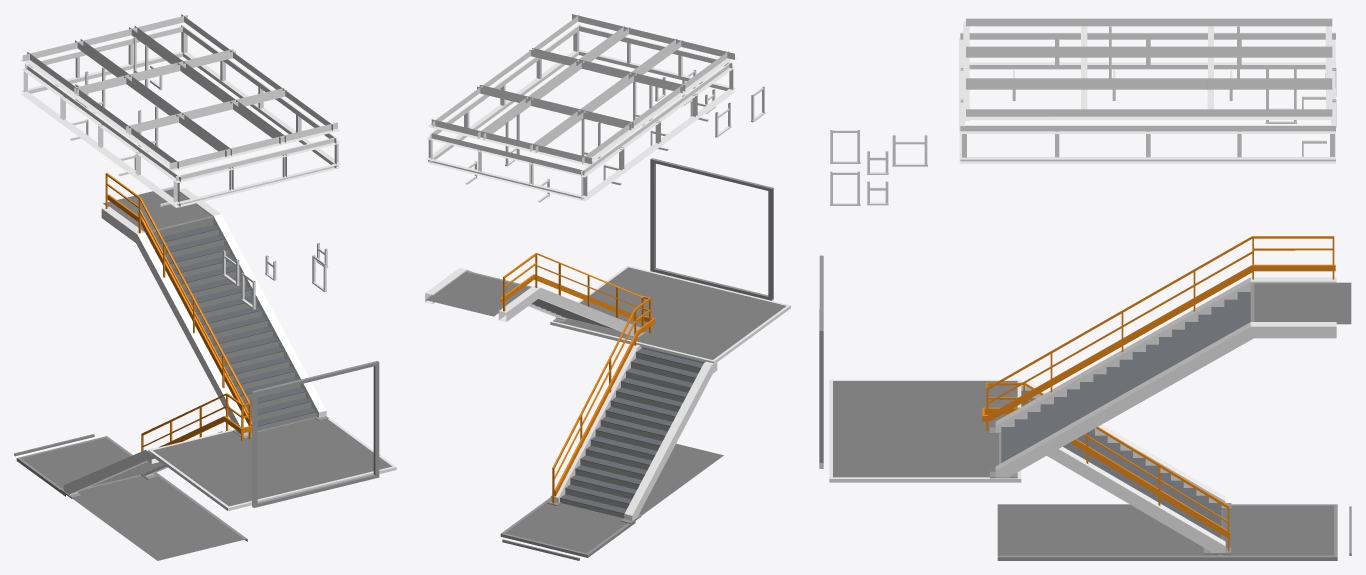
The model's file is SM_H_Building_Tide_WaterControl_05d_ATLAS.fbx.
3 renders of one model, left to right at view 1: azimuth 30°, elevation 25°; view 2: azimuth 150°, elevation 25°; view 3: azimuth 270°, elevation 25°, orthographic. The views are drawn at different scales.
Visible parts, largest first — view 1: SM_H_Building_Tide_WaterControl_05d_ATLAS; view 2: SM_H_Building_Tide_WaterControl_05d_ATLAS; view 3: SM_H_Building_Tide_WaterControl_05d_ATLAS.
Boxes of the visible parts, box(x1,y1,x2,y2) form: SM_H_Building_Tide_WaterControl_05d_ATLAS: box(14, 14, 396, 560); SM_H_Building_Tide_WaterControl_05d_ATLAS: box(425, 14, 790, 560); SM_H_Building_Tide_WaterControl_05d_ATLAS: box(819, 18, 1351, 560).
Bounding box in the file's own units: 550 × 1235 × 1275.
